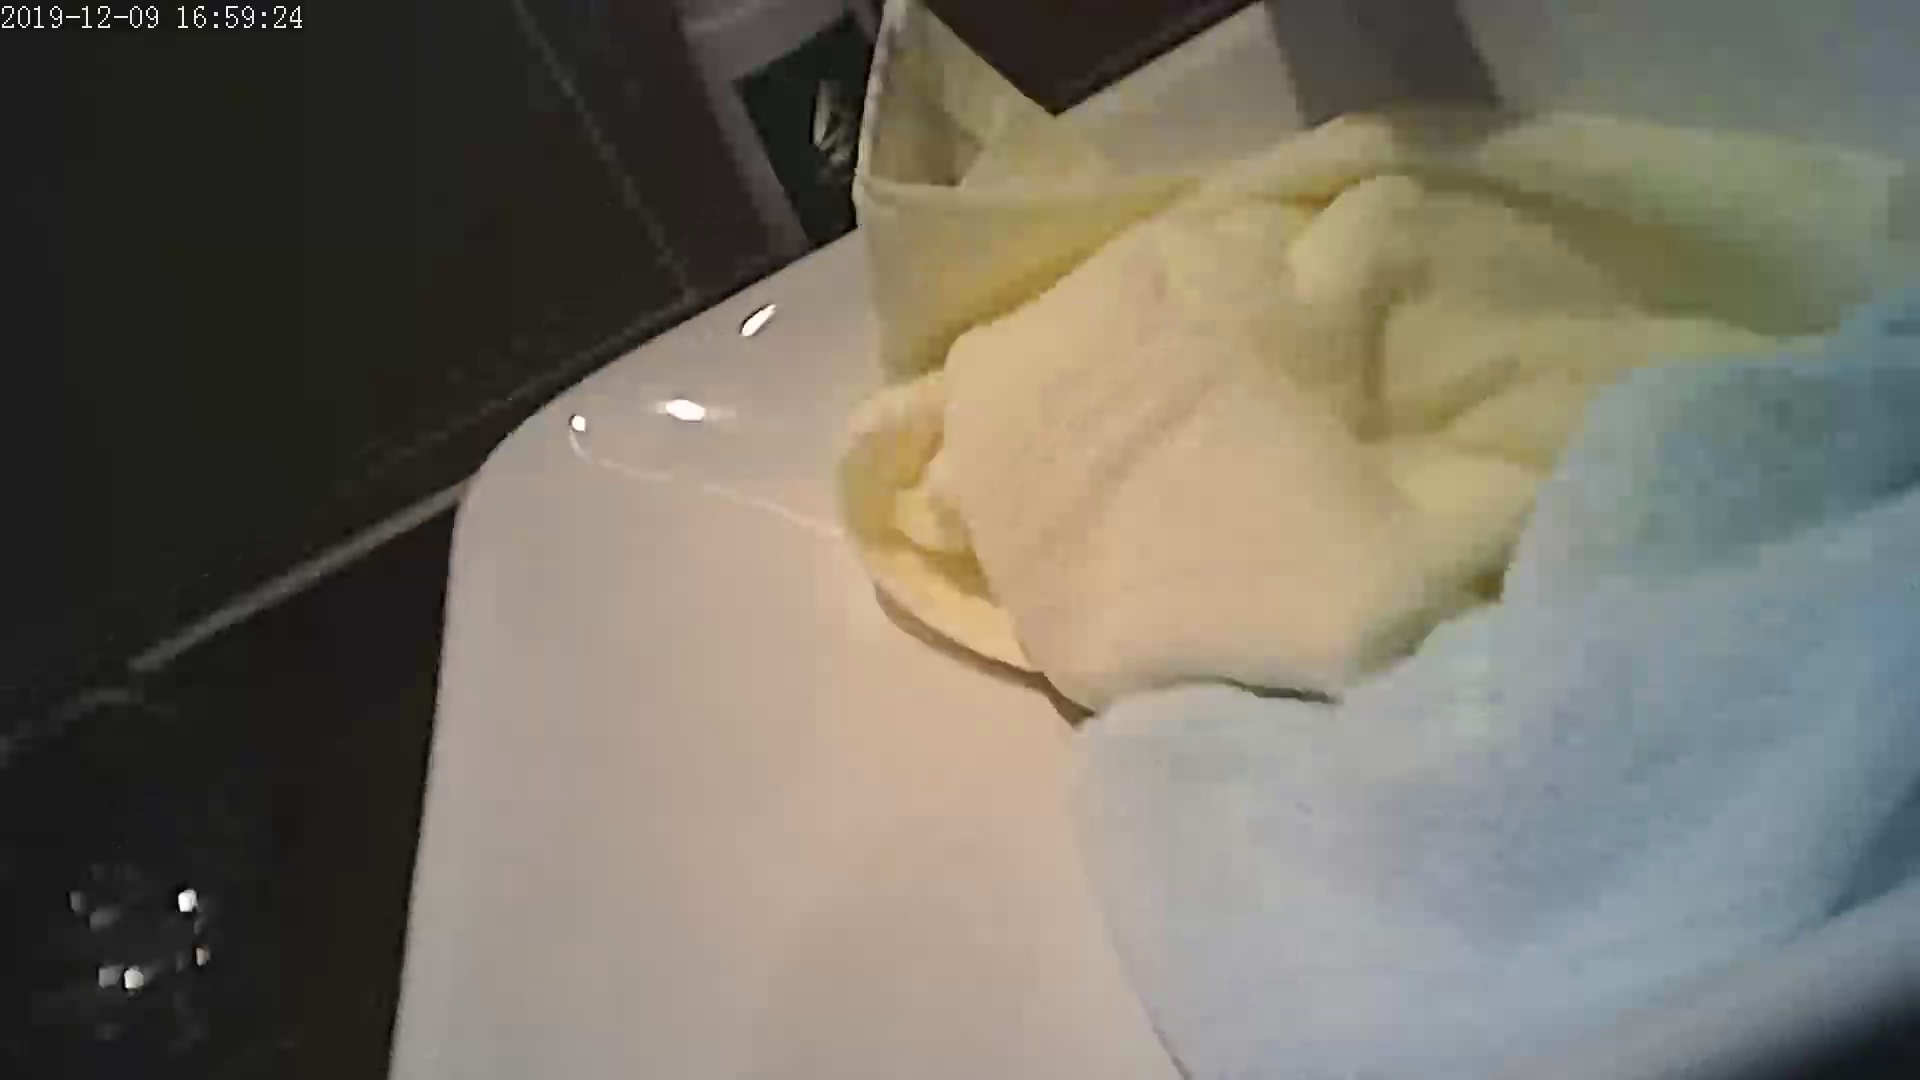bluecloth: (1139, 522, 1880, 1048)
sink: (414, 65, 1904, 1067)
yellowcloth: (824, 112, 1506, 640)
